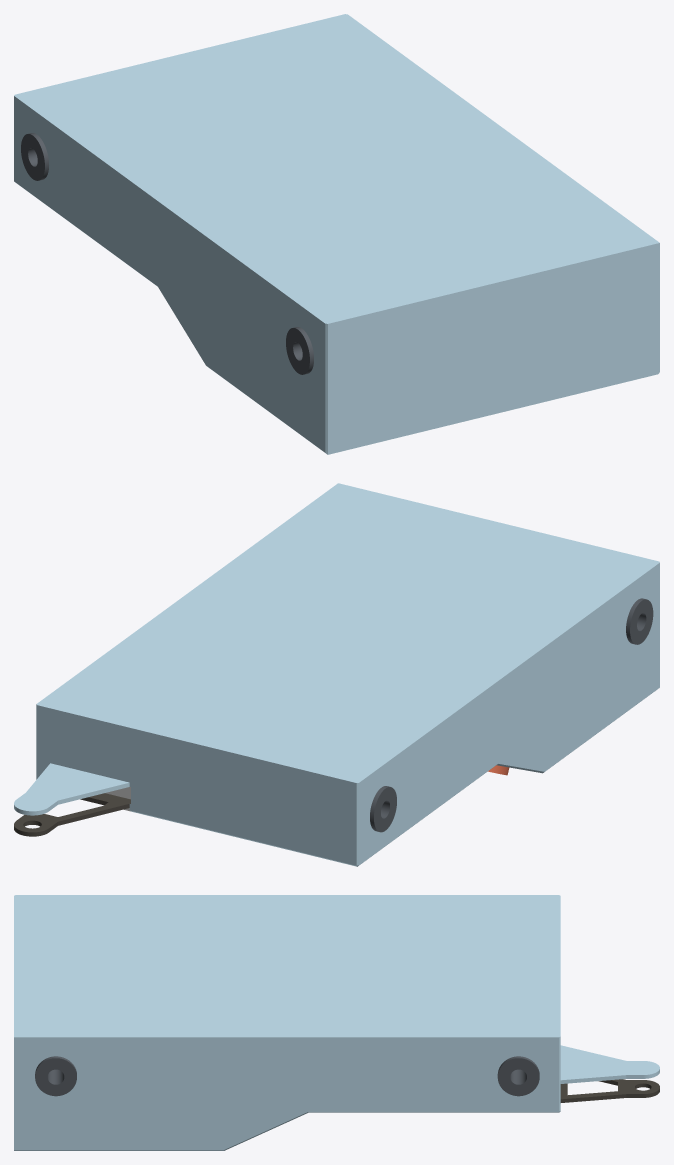
Rendered from robot_base_a.dae.
The picture shows the model from 3 angles, top to bottom: view 1: azimuth 30°, elevation 25°; view 2: azimuth 150°, elevation 25°; view 3: azimuth 270°, elevation 25°; orthographic projection. The views are drawn at different scales.
Parts seen in each view (by area): view 1: ID2; view 2: ID2; view 3: ID2.
Part boxes in pixels (x1,y1,x2,y2): ID2: (14, 14, 659, 454); ID2: (14, 483, 659, 866); ID2: (14, 895, 659, 1150).
Size of the model in its own units: 0.41 by 0.7679 by 0.1509.
